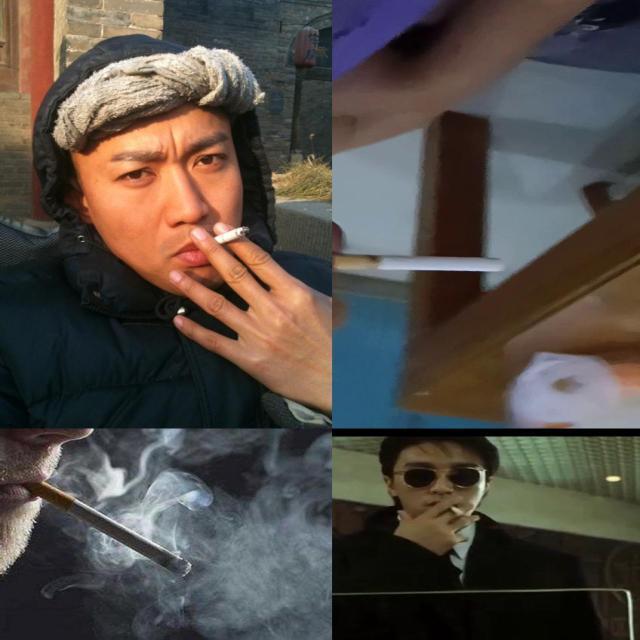smoking: (27, 478, 195, 579), (332, 254, 504, 272), (208, 224, 256, 248), (448, 506, 467, 515)
